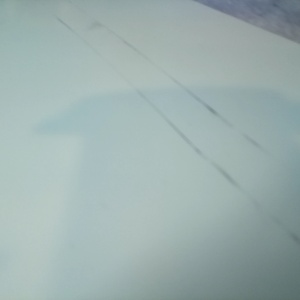top_left: (93, 53, 180, 92)
